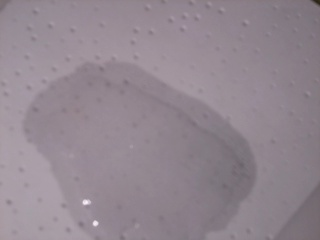Water_detected: (59, 87, 221, 227)
